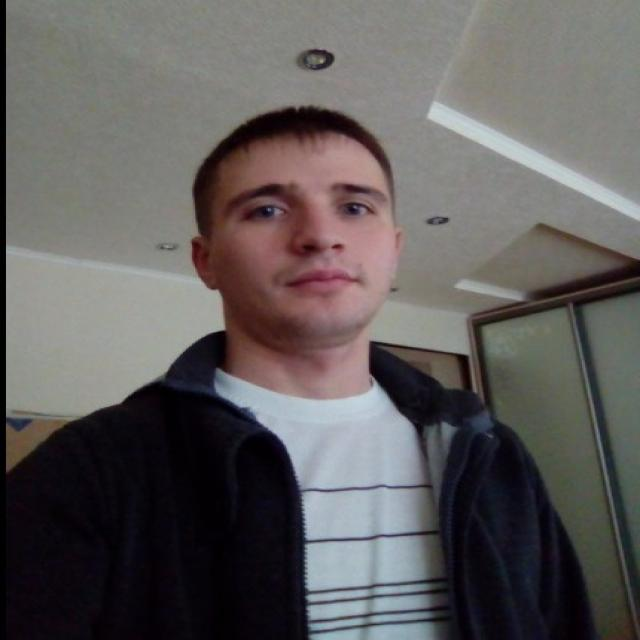earlobe: (189, 236, 221, 292)
